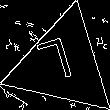L_S: (40, 36, 84, 93)
